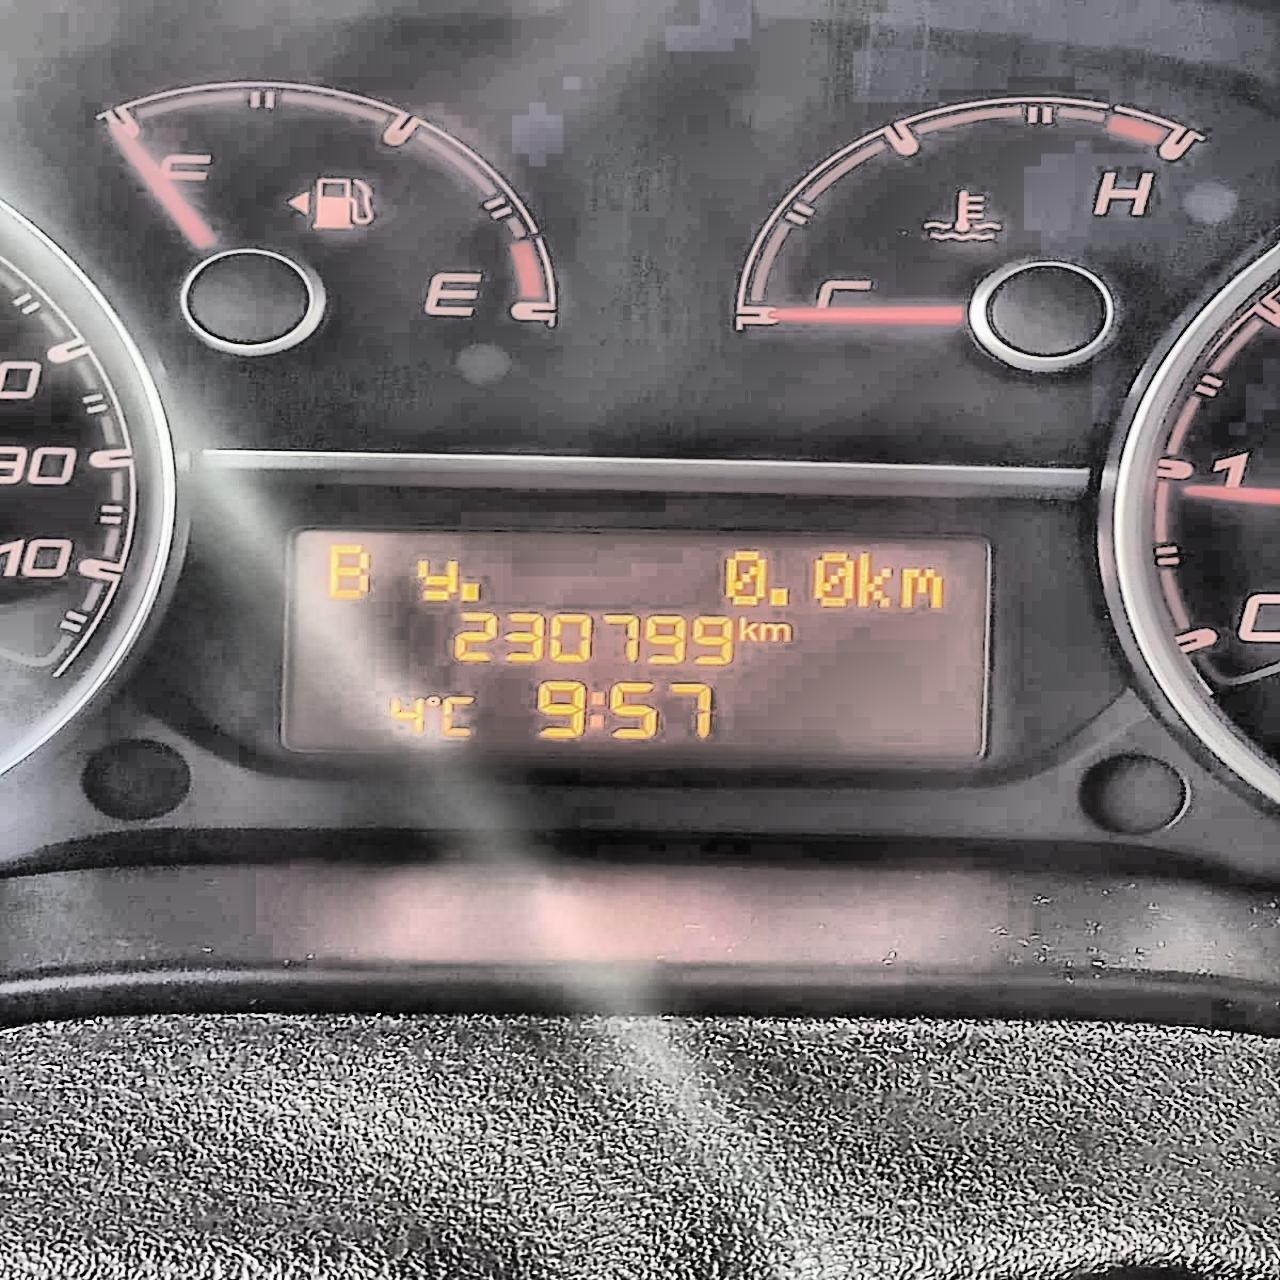-: (458, 580, 481, 601), (767, 586, 789, 606)
0: (721, 547, 768, 606), (810, 549, 856, 607), (549, 612, 593, 663)
2: (452, 611, 498, 661)
3: (502, 611, 545, 662)
4: (387, 695, 425, 735)
5: (607, 681, 658, 738)
7: (667, 681, 714, 737), (601, 613, 640, 662)
9: (537, 679, 585, 737), (642, 614, 687, 663), (690, 614, 733, 666)
X: (324, 543, 369, 599), (856, 551, 893, 608), (898, 565, 945, 610), (416, 557, 458, 600), (440, 695, 474, 735), (758, 621, 794, 644), (588, 689, 606, 729), (736, 617, 758, 641)
odometer: (271, 519, 993, 772)
